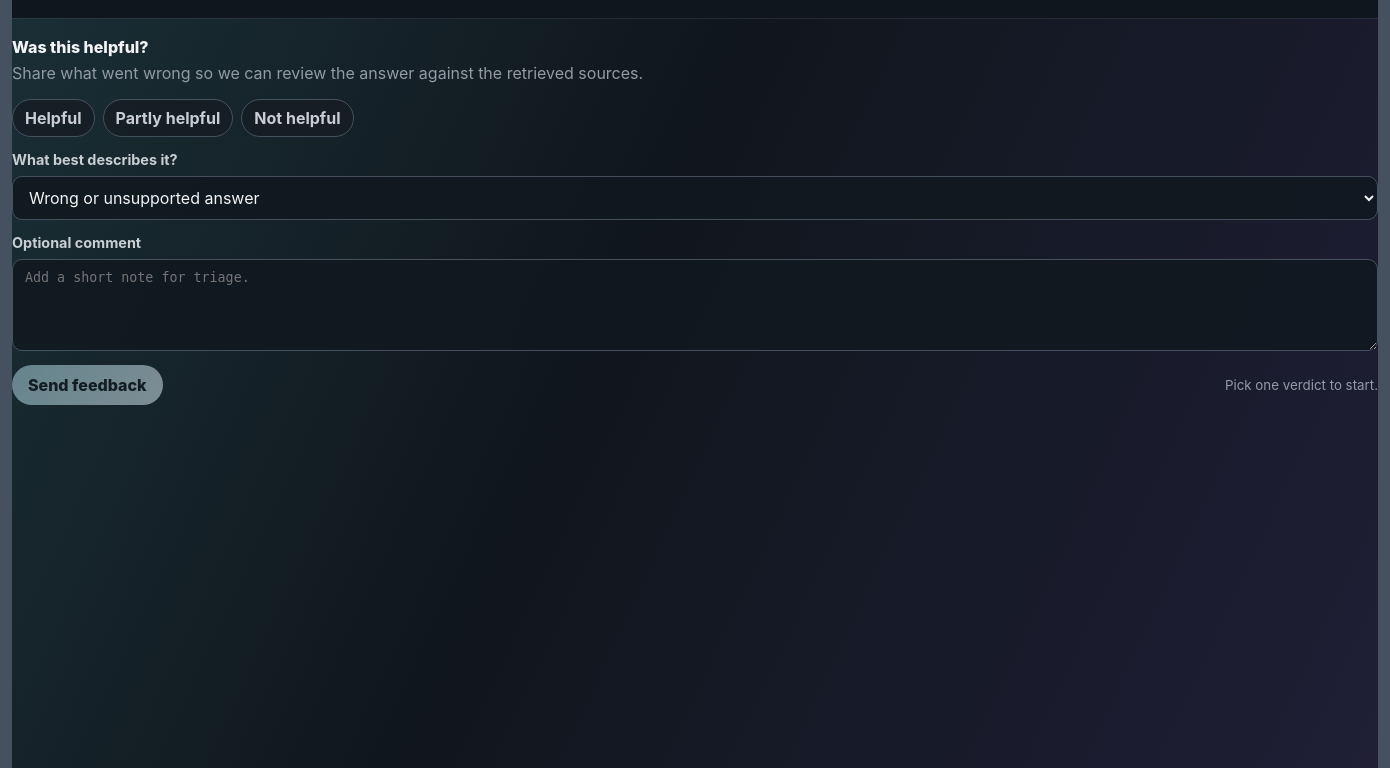
Scenario: submits normalized feedback for the current request
Click the button "Not helpful" at coordinates (297, 118), box [241,99,354,137]
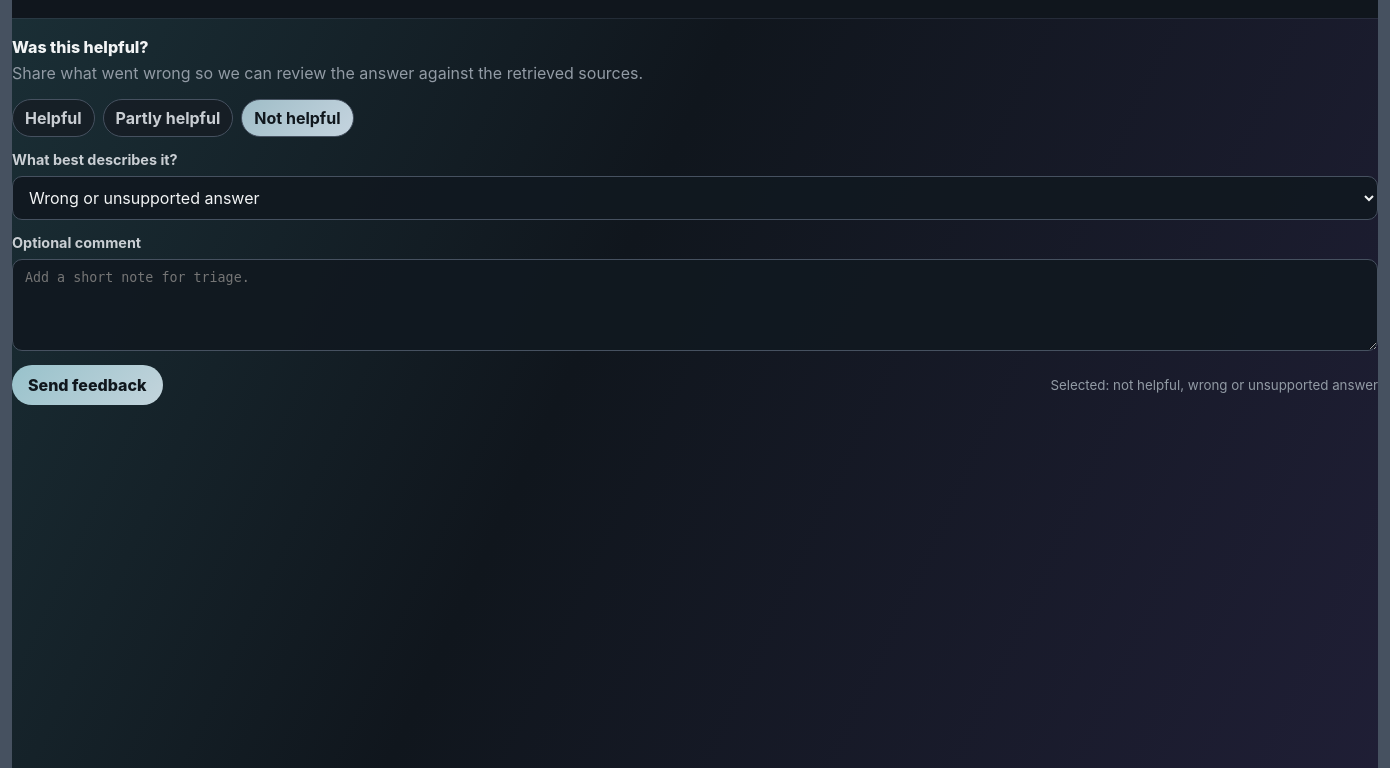
Type "Too vague" into the text box labelled "Optional comment" at coordinates (695, 305), box [12,259,1378,351]
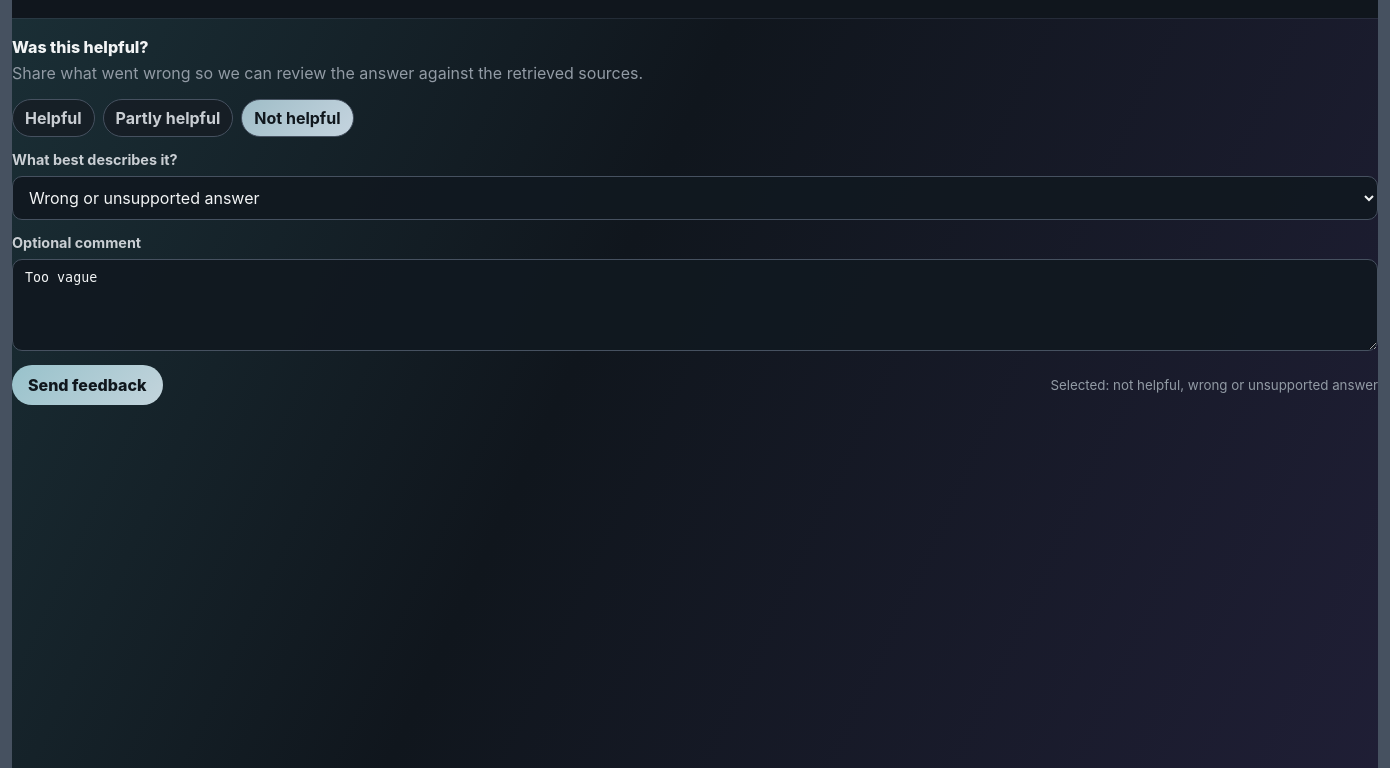
Click the button "Send feedback" at coordinates (87, 385), box [12,365,162,405]
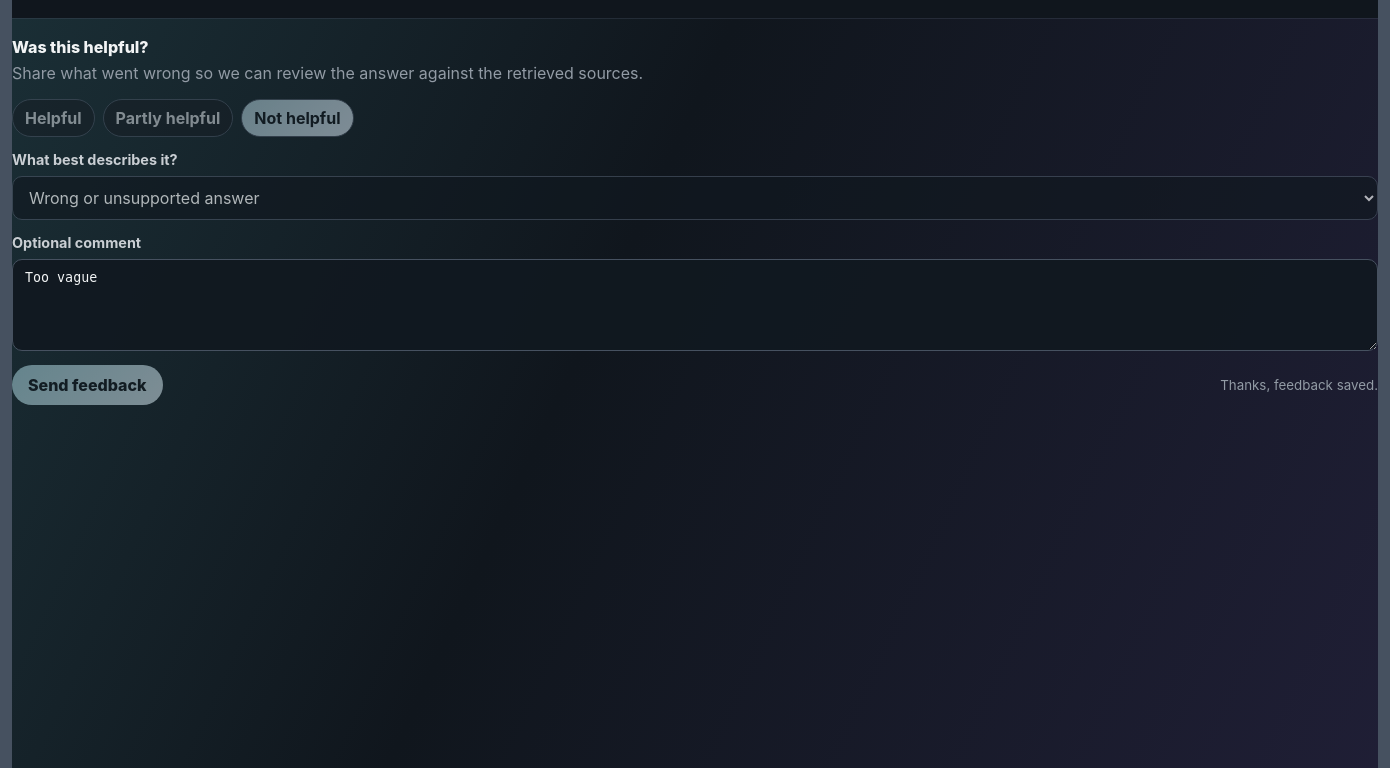
Expected: the text "Thanks, feedback saved." is shown, [1220,377,1378,393]
